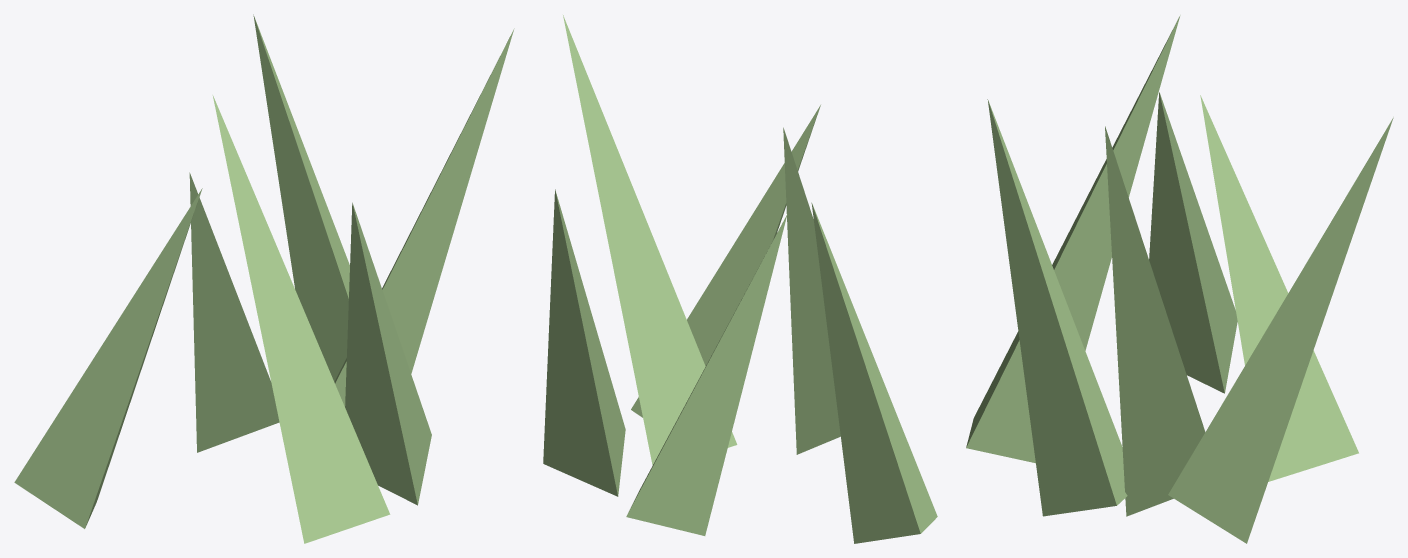
The model's file is grass_tuft.glb.
3 renders of one model, left to right at view 1: azimuth 30°, elevation 25°; view 2: azimuth 150°, elevation 25°; view 3: azimuth 270°, elevation 25°, orthographic. The views are drawn at different scales.
Parts seen in each view (by area): view 1: grass_tuft; view 2: grass_tuft; view 3: grass_tuft.
Boxes of the visible parts, box(x1,y1,x2,y2) form: grass_tuft: box(14, 14, 514, 543); grass_tuft: box(543, 15, 937, 543); grass_tuft: box(966, 15, 1393, 543).
Size of the model in its own units: 0.4094 by 0.3838 by 0.3227.
